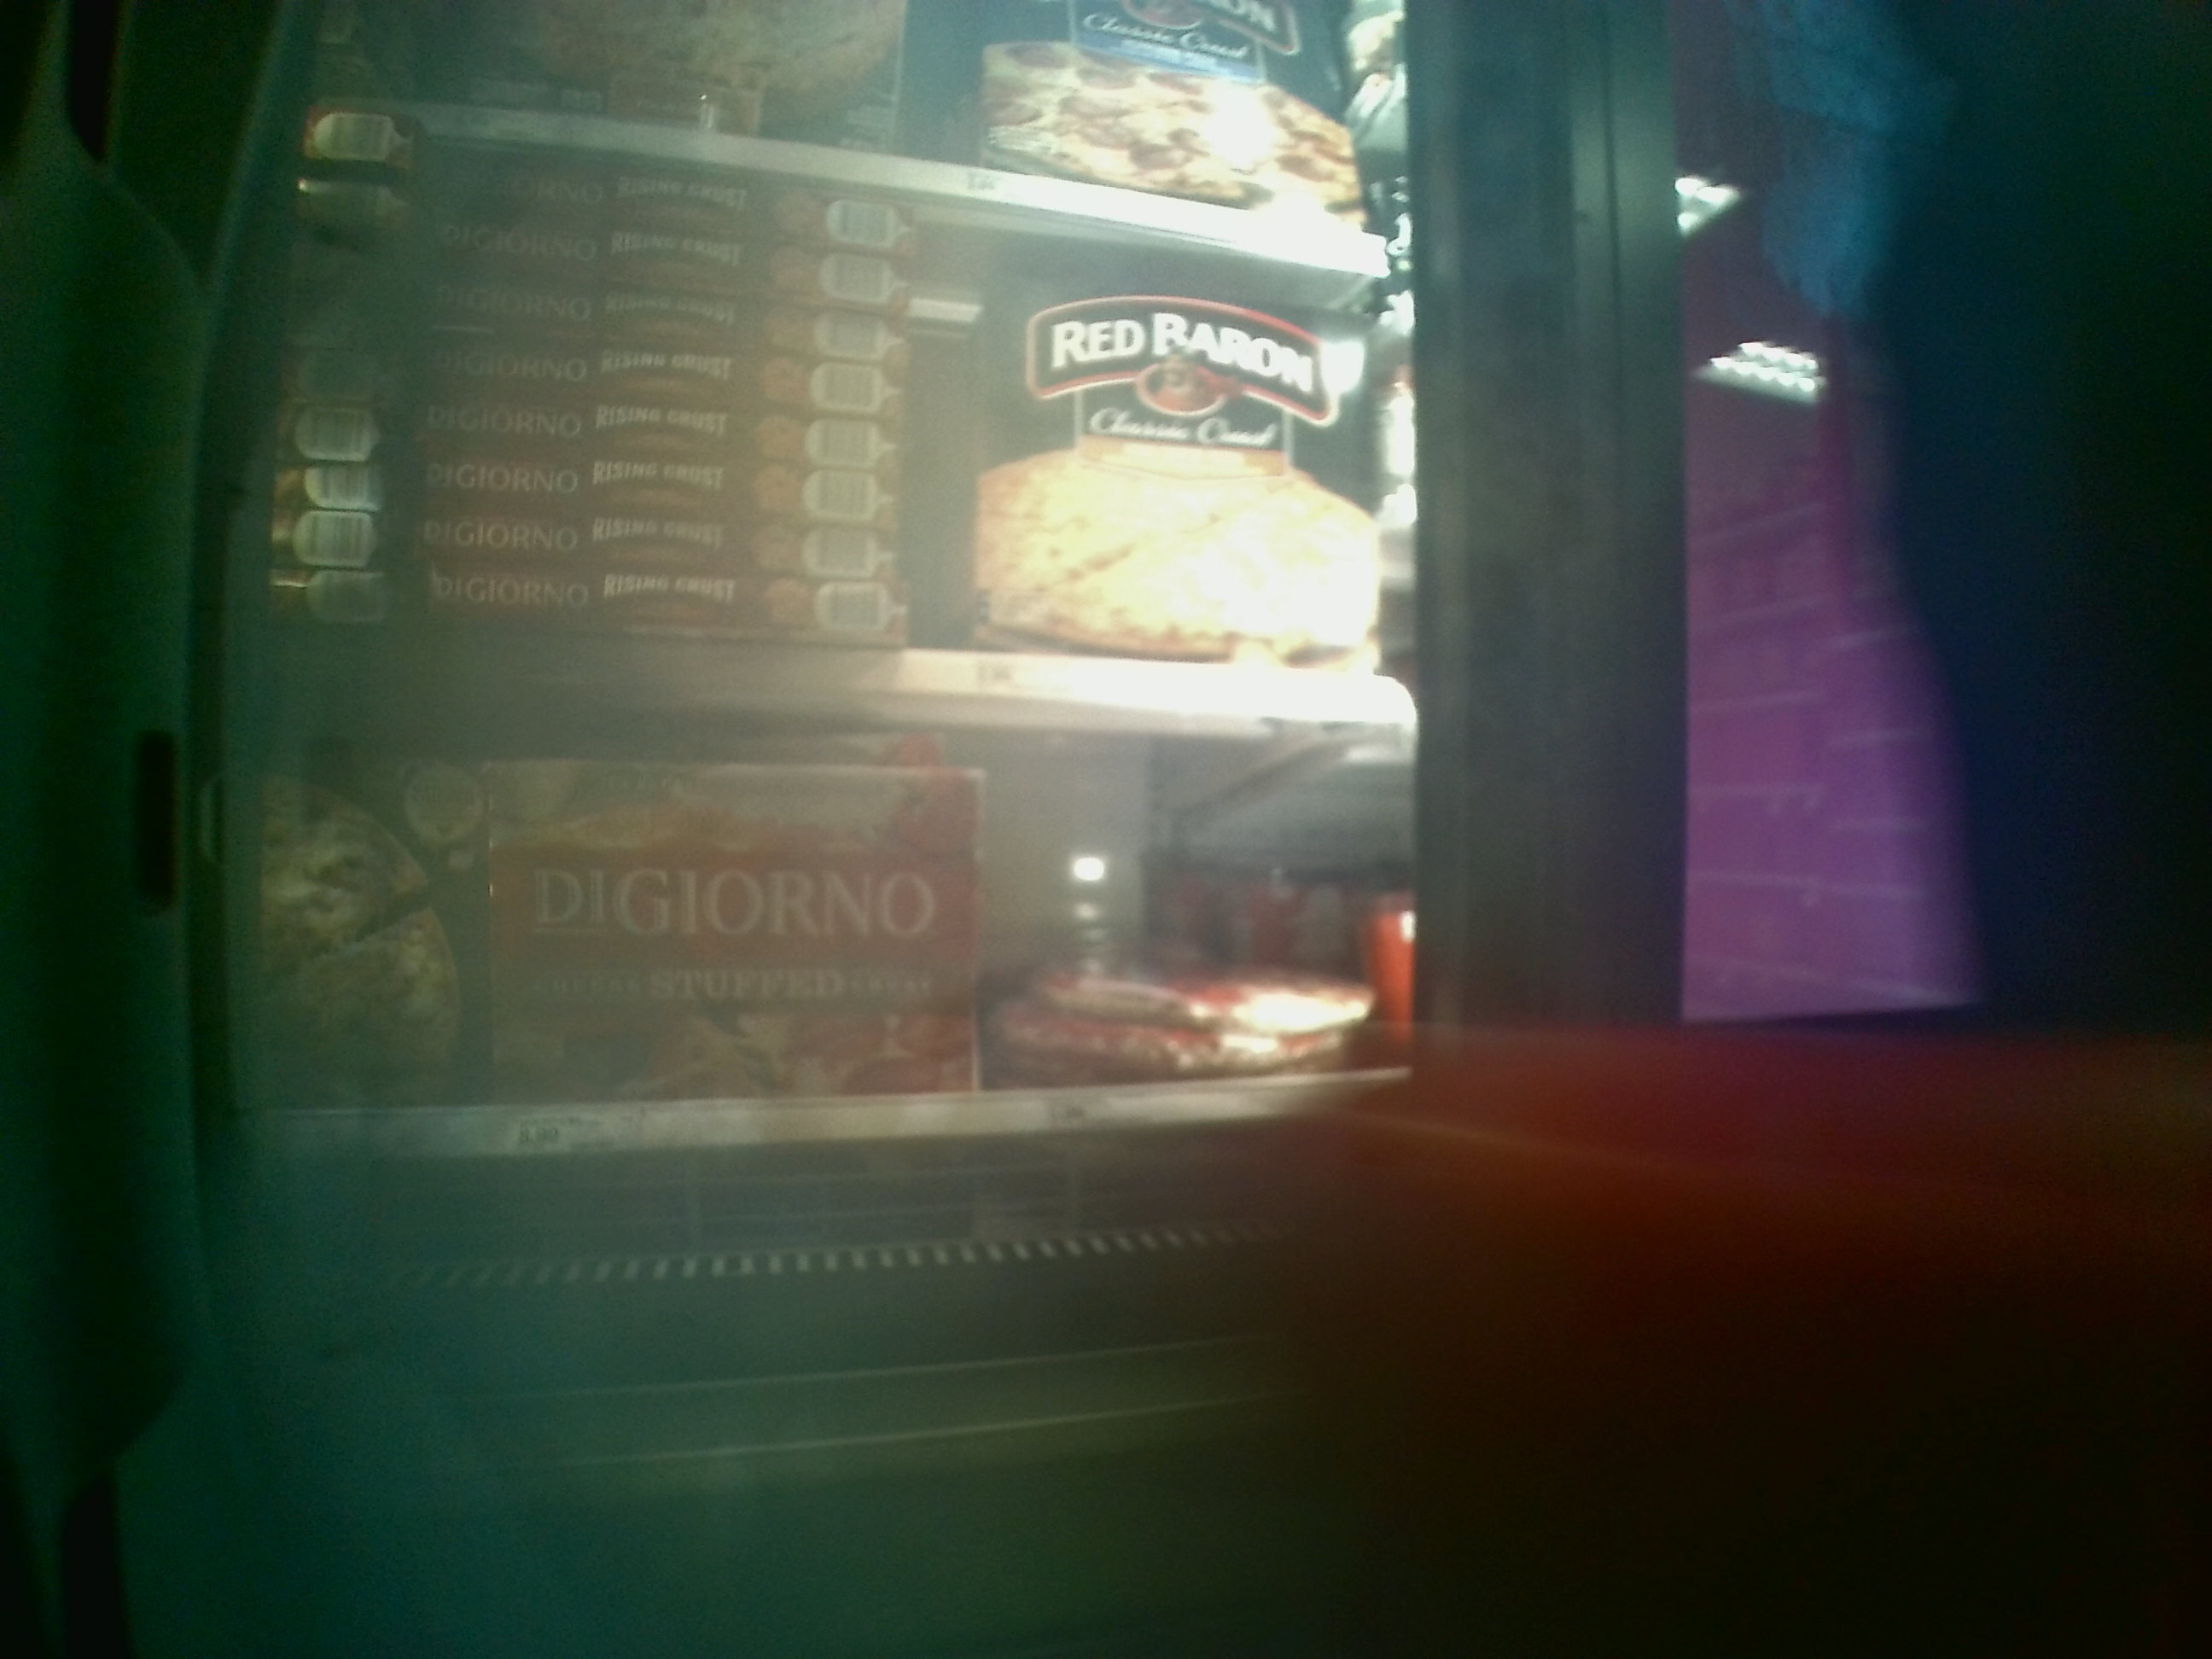shelf: (253, 709, 1421, 1398), (268, 127, 1425, 721)
